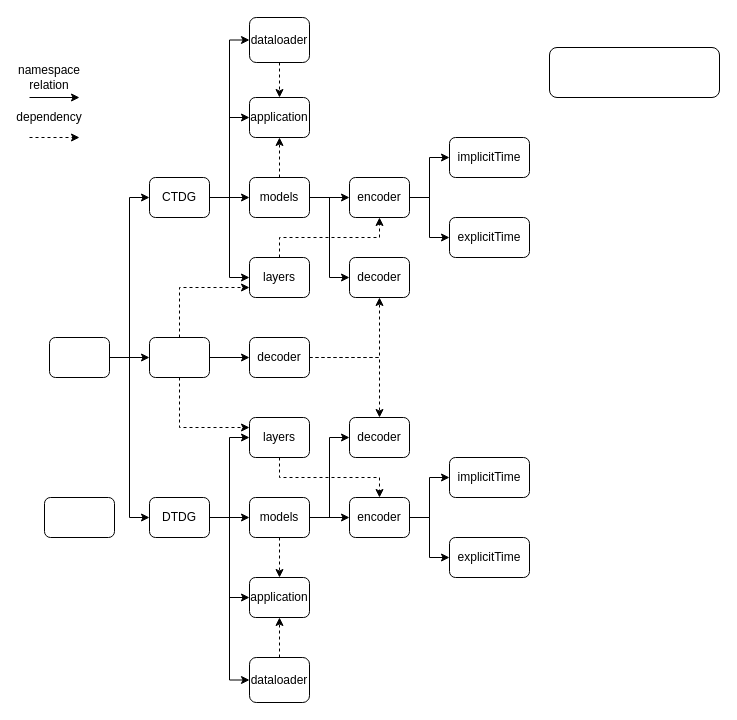
The diagram is 737 pixels wide and 720 high, and some of its shapes have lost their labels. The shapes that lost their labels are listed below. From the top down, each one's centre as x and y in pixels, then its label:
At [634,72]: "backends:Tensorflow,Pytorch".
At [79,357]: "nine_turn".
At [179,357]: "core".
At [79,517]: "nine_turn.sh".
